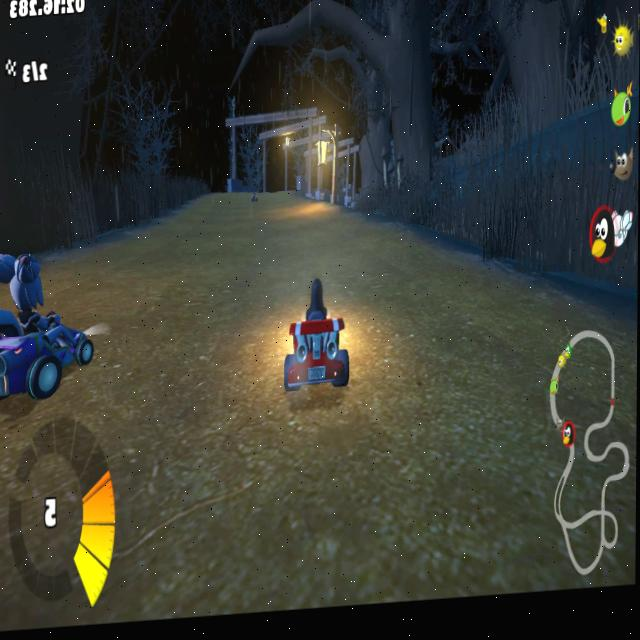enemy_kart: (0, 251, 93, 416), (243, 185, 261, 208)
player_kart: (279, 274, 349, 407)
track: (0, 401, 351, 640), (349, 324, 637, 614), (90, 281, 277, 423), (350, 279, 607, 340), (93, 209, 259, 291), (350, 246, 502, 293), (261, 179, 302, 284), (331, 227, 419, 257), (300, 202, 335, 273), (185, 191, 240, 213), (335, 213, 360, 232), (333, 256, 348, 271)
